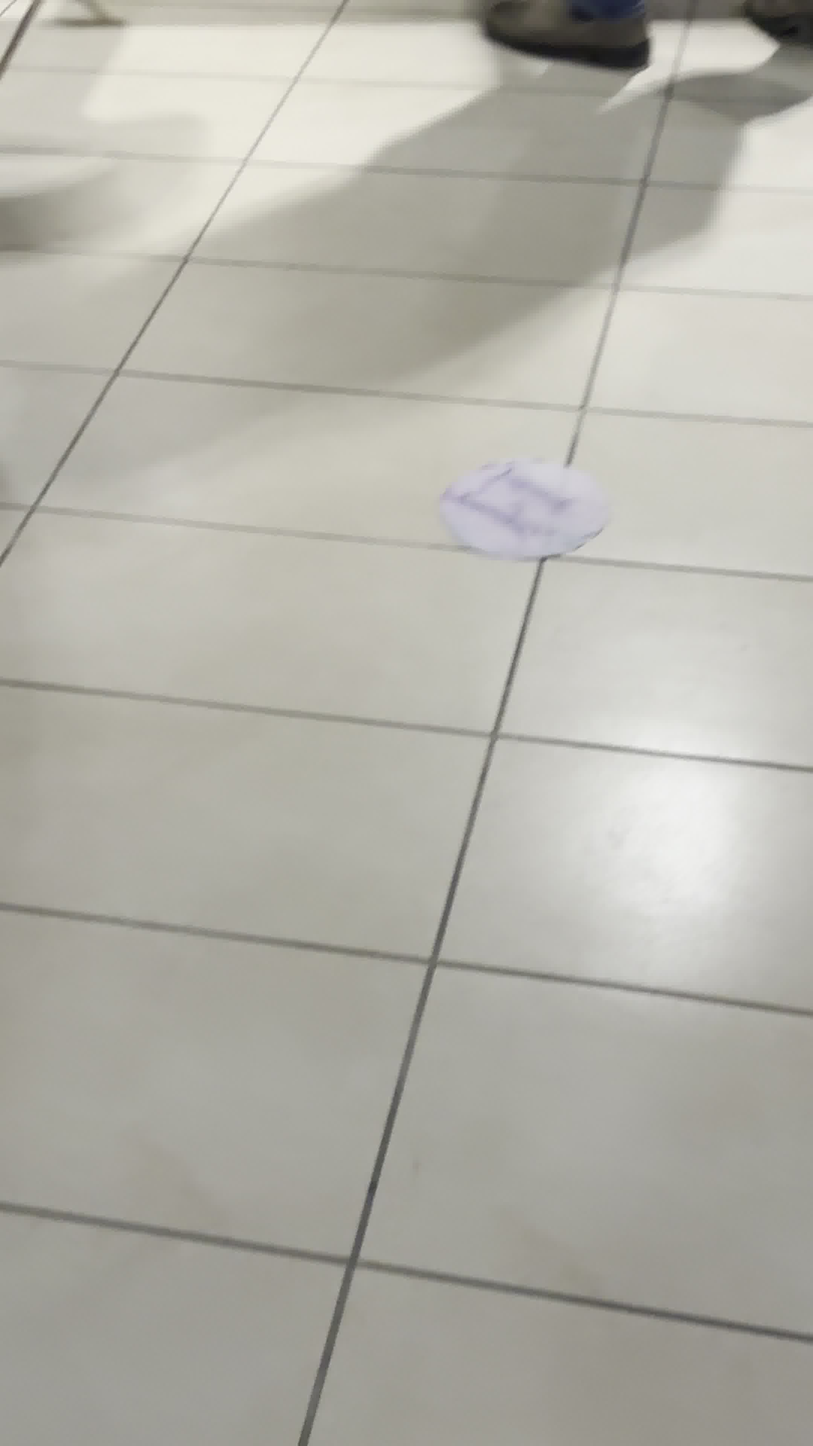Target: (443, 454, 610, 562)
